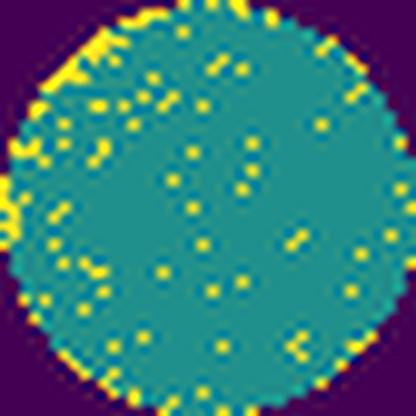Edge-Loc: (40, 0, 124, 95), (0, 169, 30, 249), (117, 6, 176, 32)
